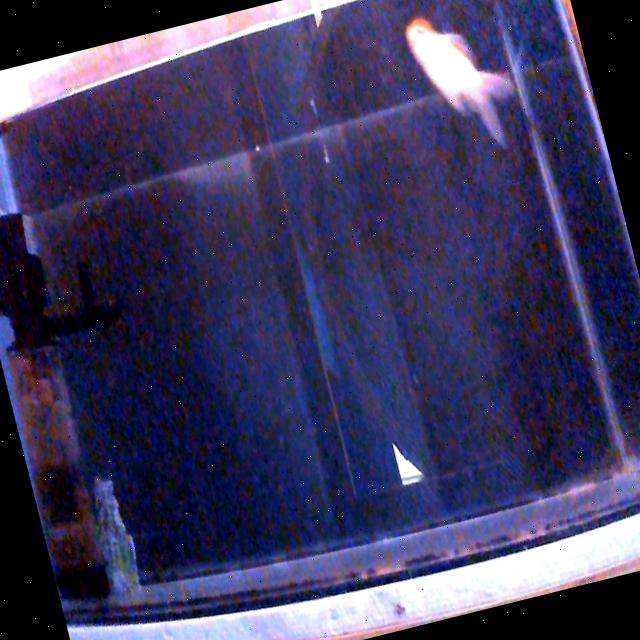fish: (398, 0, 531, 167)
